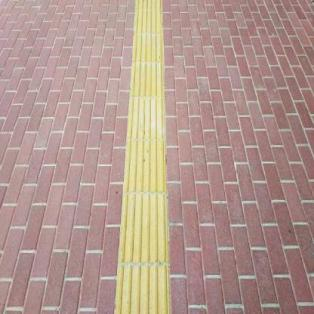Podoctatil: (114, 2, 170, 314)
